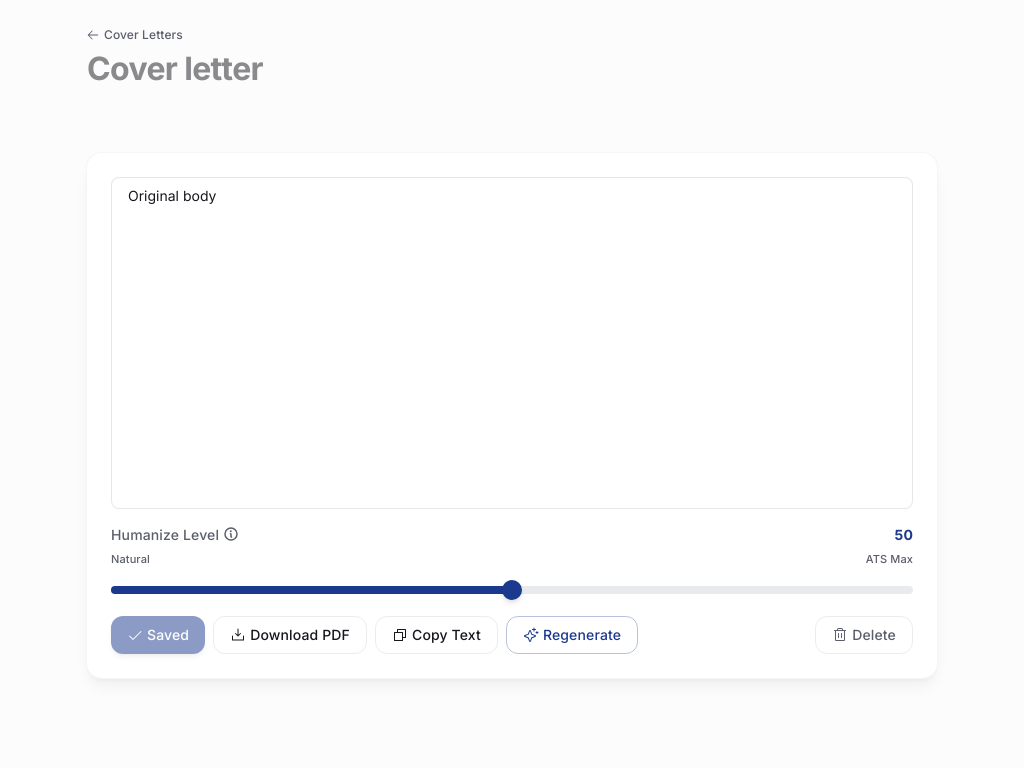
Test: CoverLetterEditorPage › says so when the letter was saved in another tab, and saves over it only when asked
Step 1. Replace the text in the text box showing "Original body" with "Mine" → point(512, 343), box [111,177,913,508]
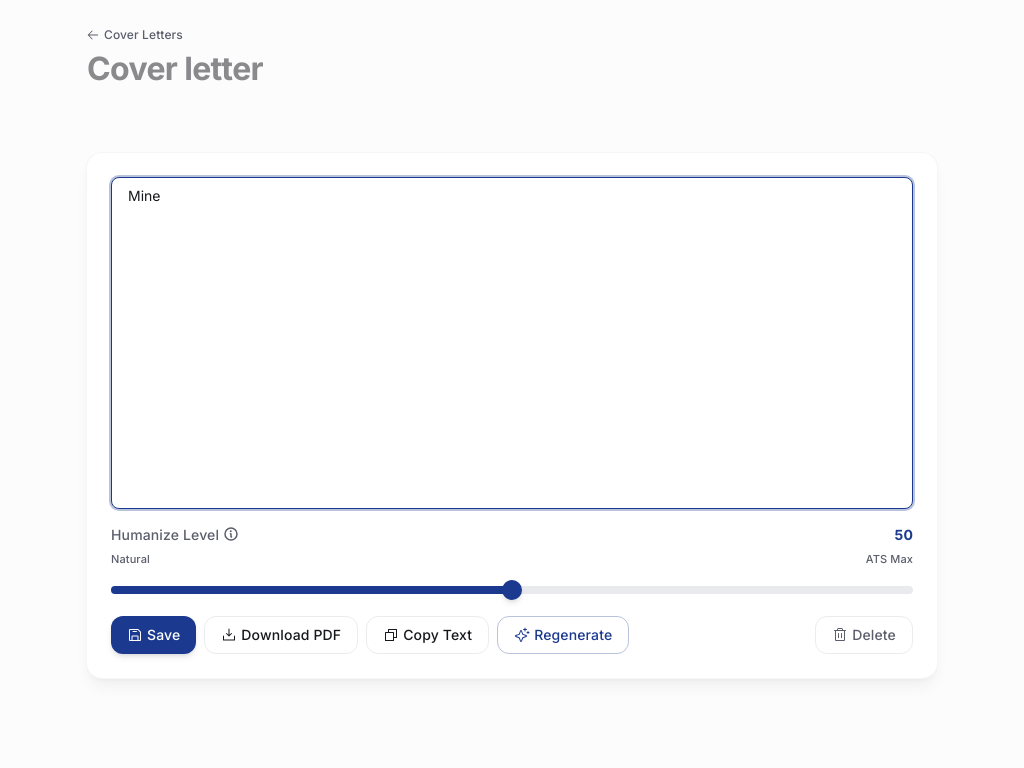
Step 2. Click the button "Save" → point(154, 636), box [111,616,196,654]
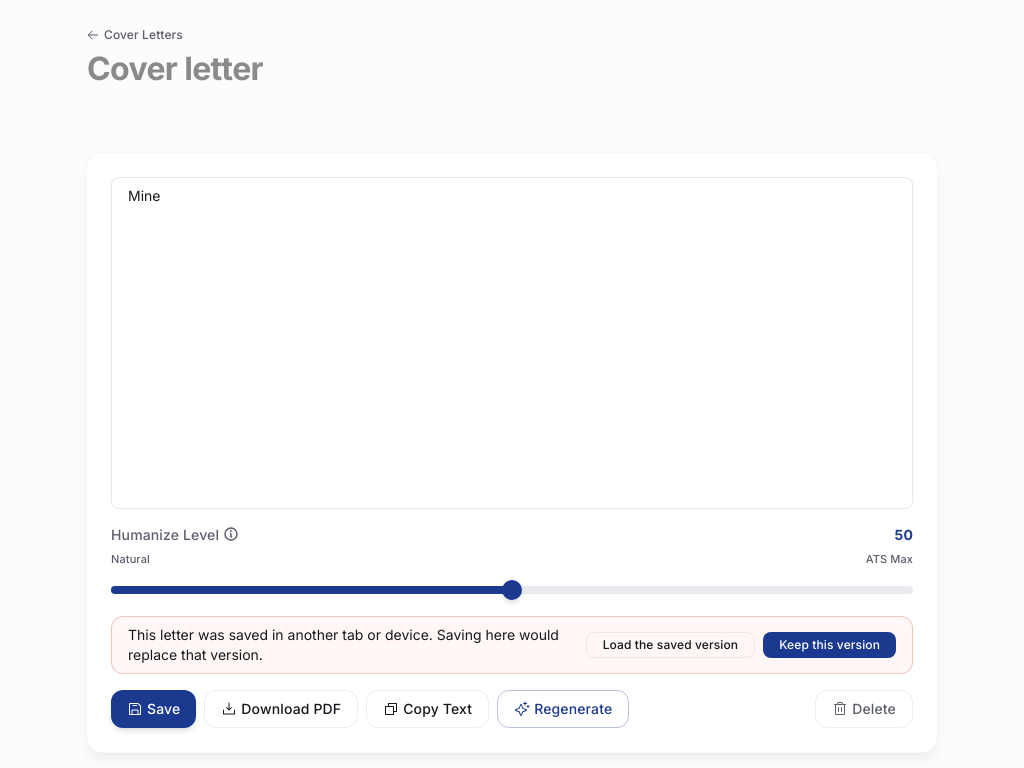
Result: the message shows "saved in another tab or device" at [128,626,559,663]
Step 3. Click the button "Keep this version" → point(830, 645), box [763,632,896,658]
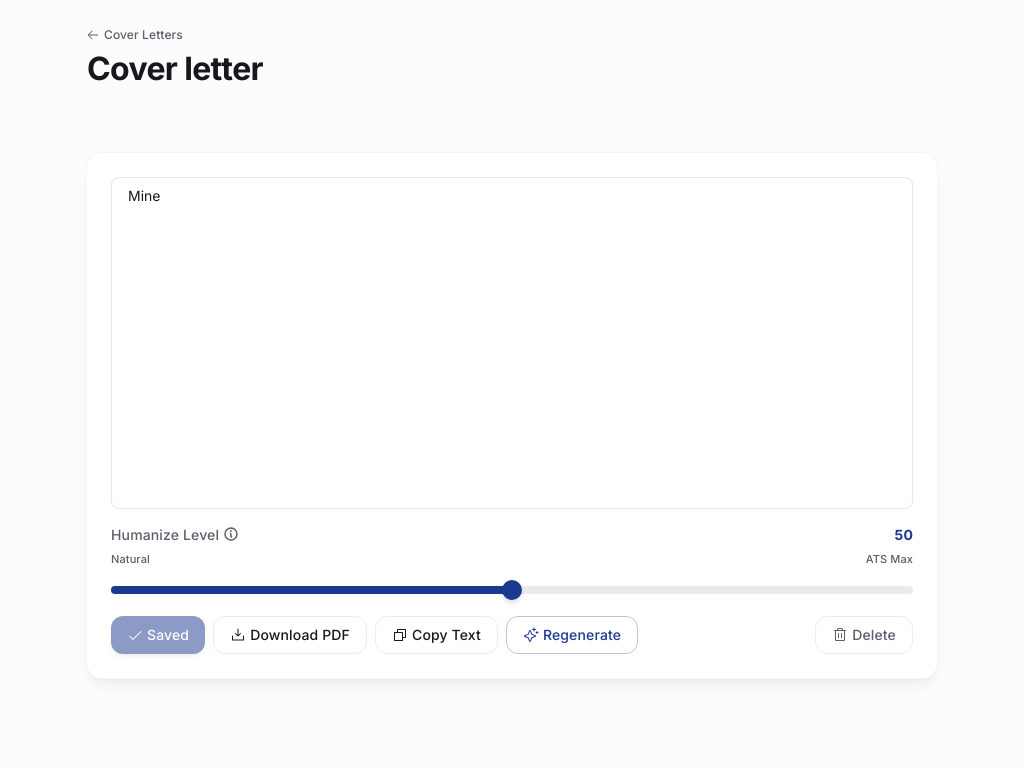
Result: the message is gone
